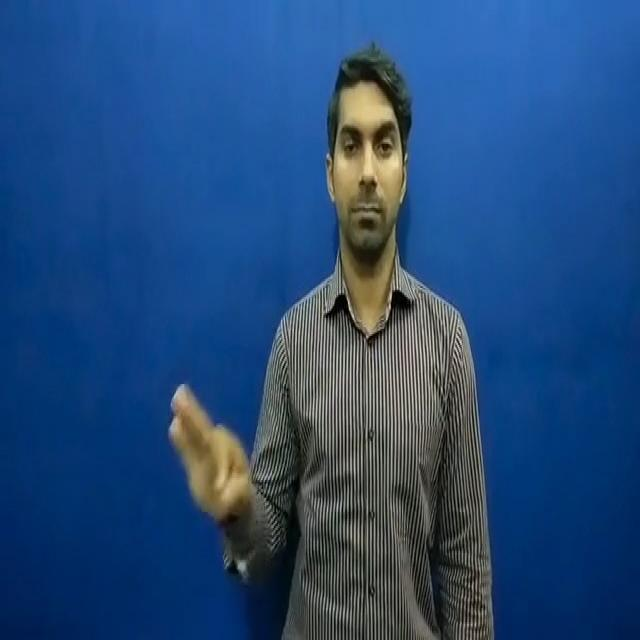french fries: (161, 368, 261, 544)
